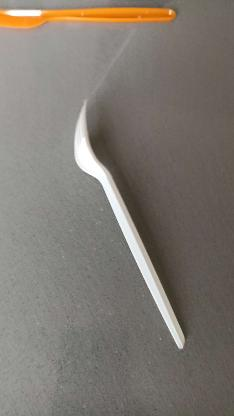Others: (70, 97, 192, 354), (0, 5, 186, 29)
